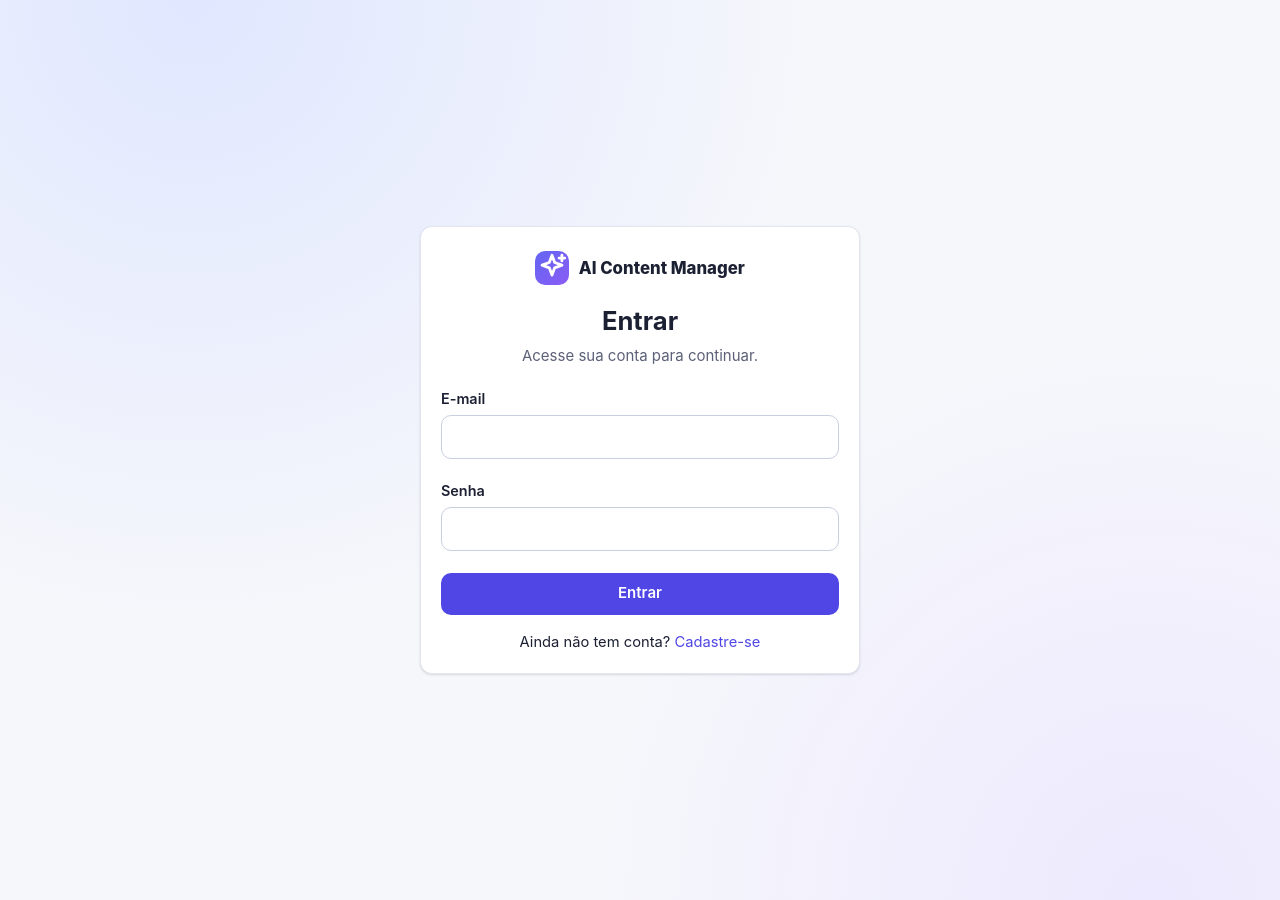
Scenario: LoginComponent › mostra mensagem amigável para credenciais inválidas e reabilita o botão
In the field with id "email": (640, 437) [441,415,839,459], type "ana@example.com"
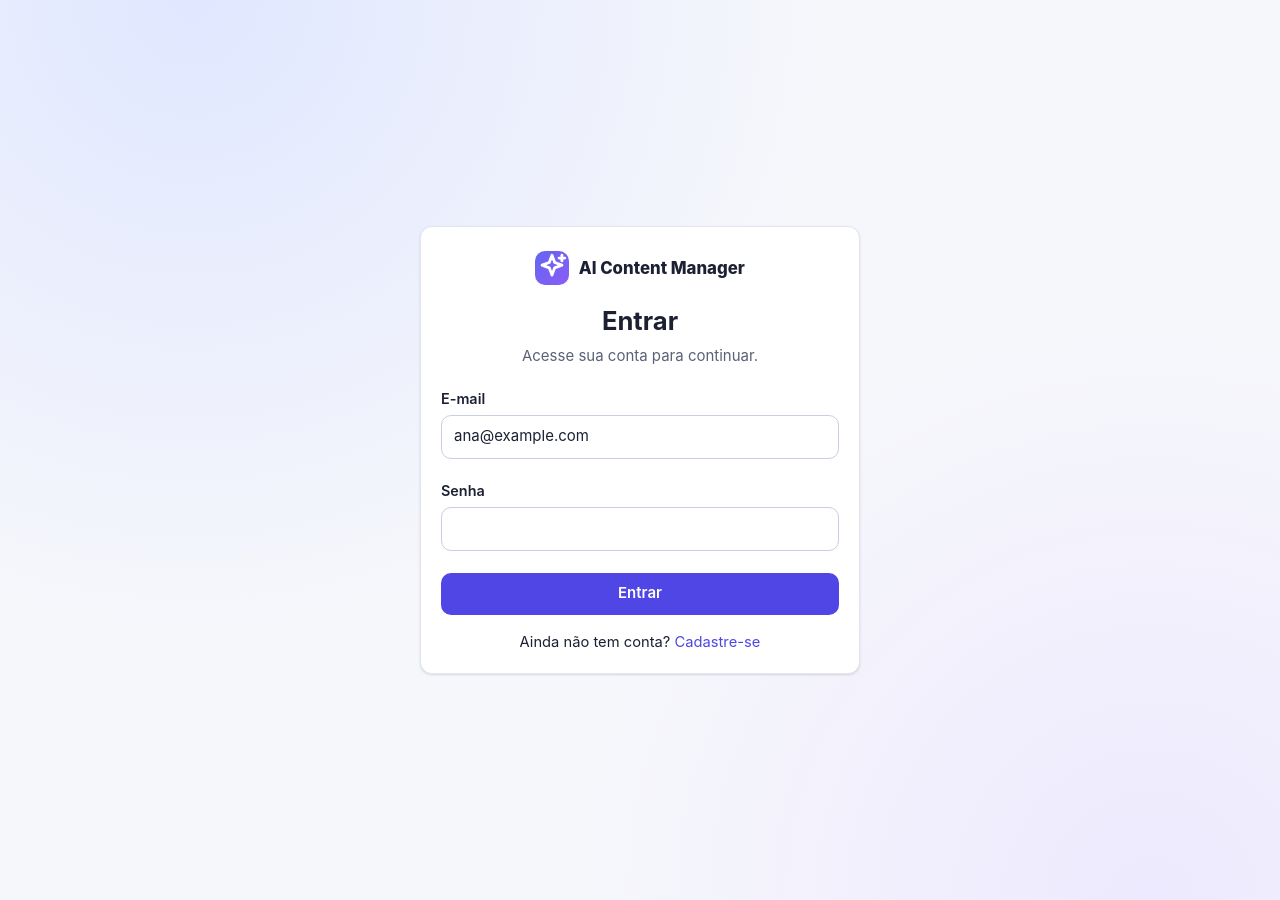
In the password field labelled "Senha": (640, 529) [441,507,839,551], type "errada123"
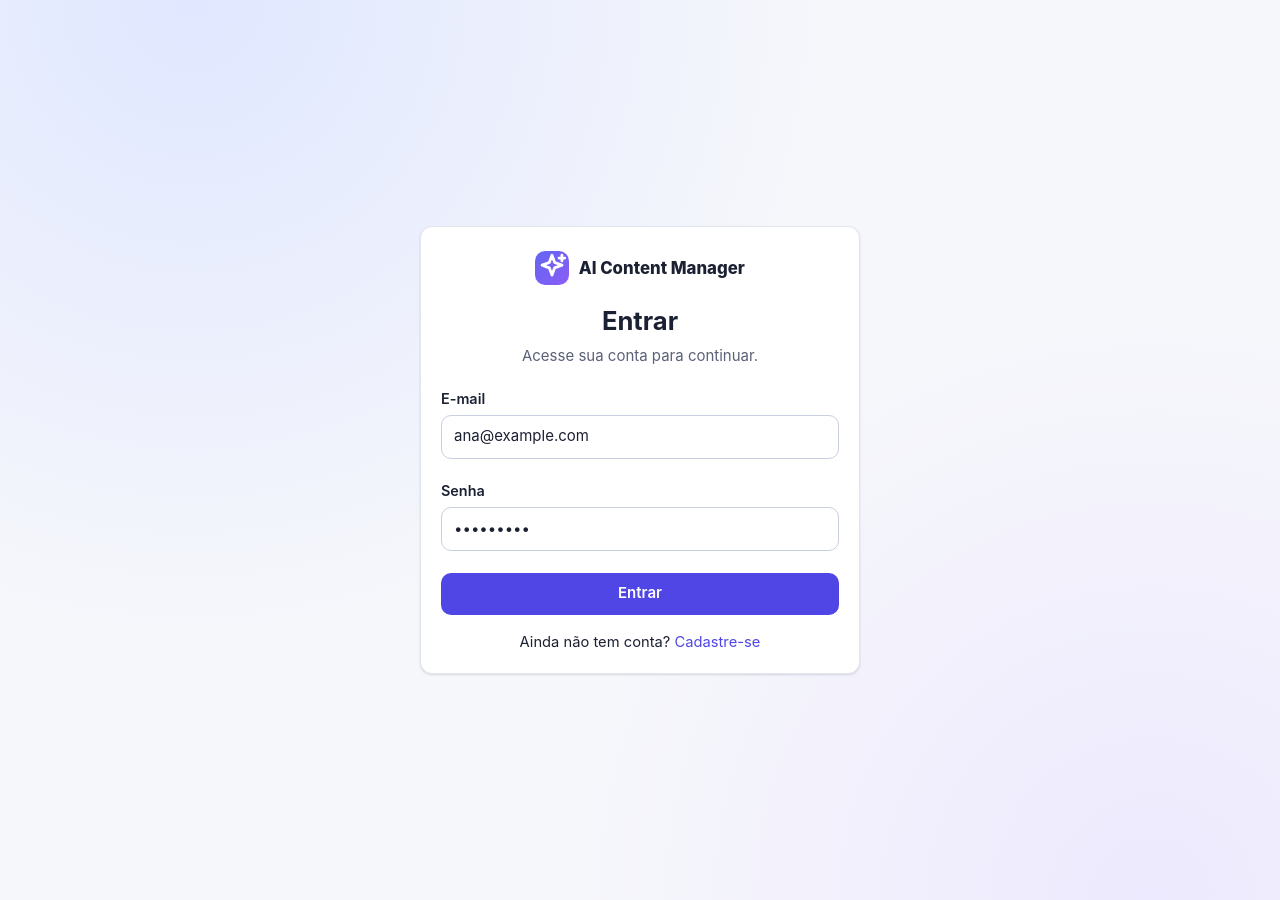
Submit the form, box [441,388,839,615]
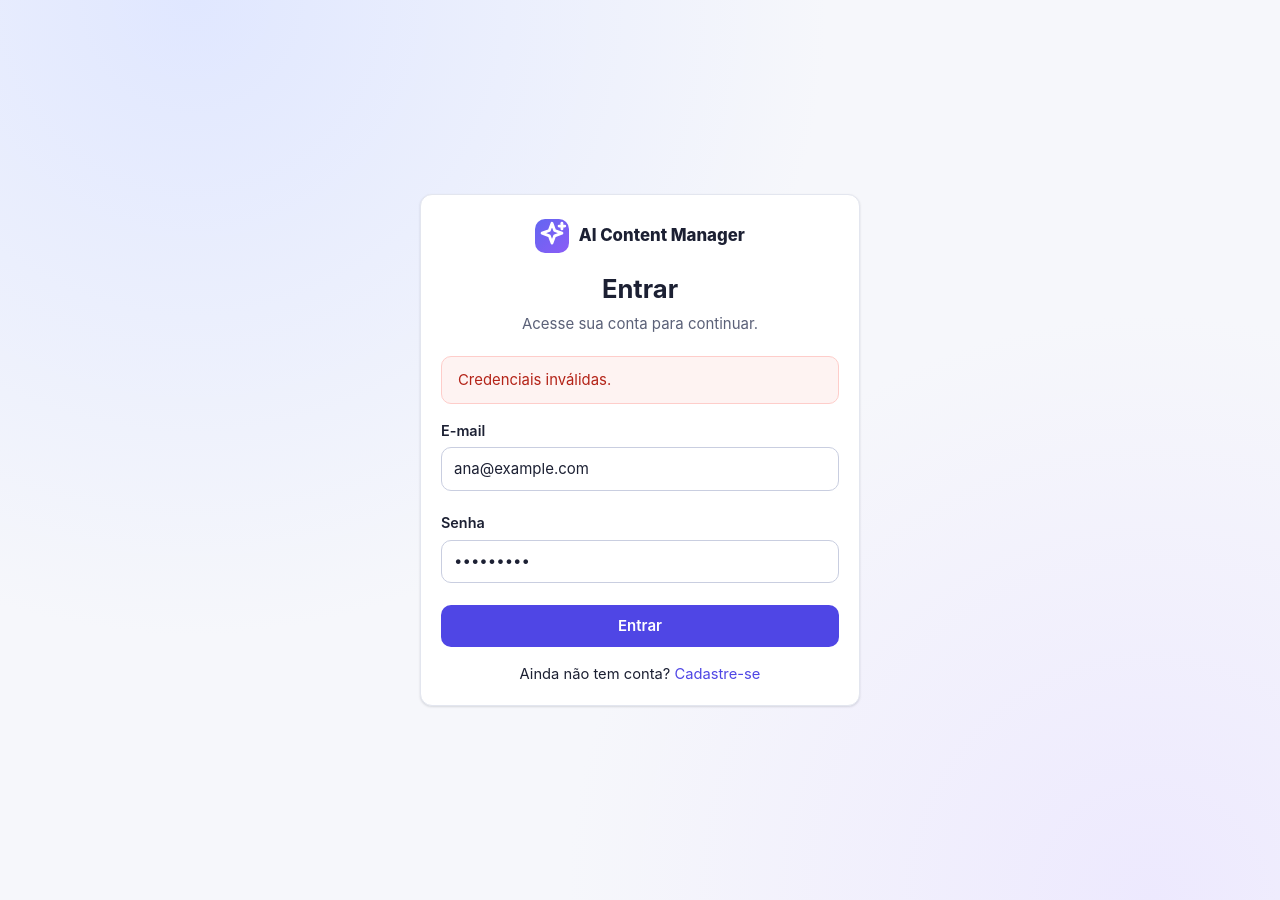
Check: the message with class "alert-error" reads "Credenciais inválidas.", box [458,370,611,388]
